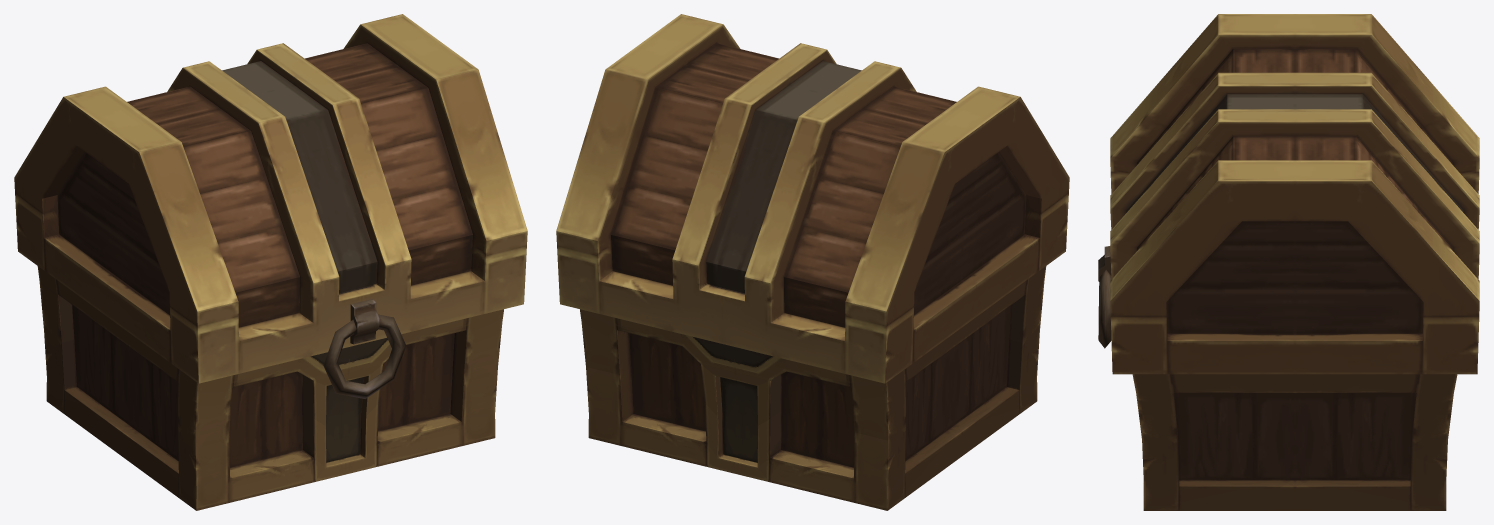
Rendered from yw_qianshaozhan_treasurechest_001.FBX.
The picture shows the model from 3 angles, left to right: view 1: azimuth 30°, elevation 25°; view 2: azimuth 150°, elevation 25°; view 3: azimuth 270°, elevation 25°; orthographic projection.
Visible parts, largest first — view 1: yw_qianshaozhan_treasurechest_001; view 2: yw_qianshaozhan_treasurechest_001; view 3: yw_qianshaozhan_treasurechest_001.
Part boxes in pixels (bbox=[...]): yw_qianshaozhan_treasurechest_001: bbox=[14, 14, 527, 510]; yw_qianshaozhan_treasurechest_001: bbox=[556, 14, 1069, 510]; yw_qianshaozhan_treasurechest_001: bbox=[1098, 14, 1479, 510].
Size of the model in its own units: 84.46 by 81.46 by 80.01.
